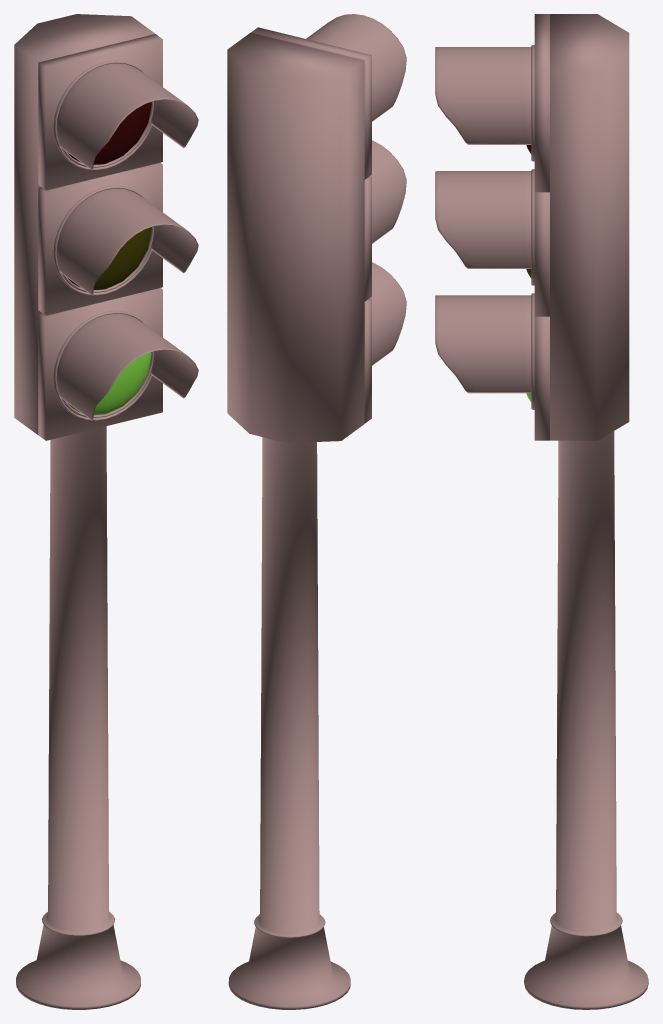
Rendered from traffic_light_green.fbx.
3 views of the same model, side by side, from view 1: azimuth 30°, elevation 25°; view 2: azimuth 150°, elevation 25°; view 3: azimuth 270°, elevation 25° (orthographic). The views are drawn at different scales.
Visible parts, largest first — view 1: base_Cylinder, big_box_Cube, circle_cover_Sphere.002, lights_Sphere.008, circles_Sphere.009; view 2: big_box_Cube, base_Cylinder, circle_cover_Sphere.002; view 3: big_box_Cube, base_Cylinder, circle_cover_Sphere.002, circles_Sphere.009.
Boxes of the visible parts, x1,y1,x2,y2 form: base_Cylinder: (16, 426, 140, 1009); big_box_Cube: (14, 14, 162, 440); circle_cover_Sphere.002: (56, 63, 198, 420); lights_Sphere.008: (67, 102, 151, 415); circles_Sphere.009: (53, 60, 153, 420); big_box_Cube: (227, 27, 371, 443); base_Cylinder: (228, 437, 350, 1009); circle_cover_Sphere.002: (306, 14, 406, 365); big_box_Cube: (534, 14, 629, 440); base_Cylinder: (524, 431, 648, 1009); circle_cover_Sphere.002: (435, 47, 531, 393); circles_Sphere.009: (531, 45, 534, 409).
Bounding box in the file's own units: 42.65 × 330 × 67.73.
